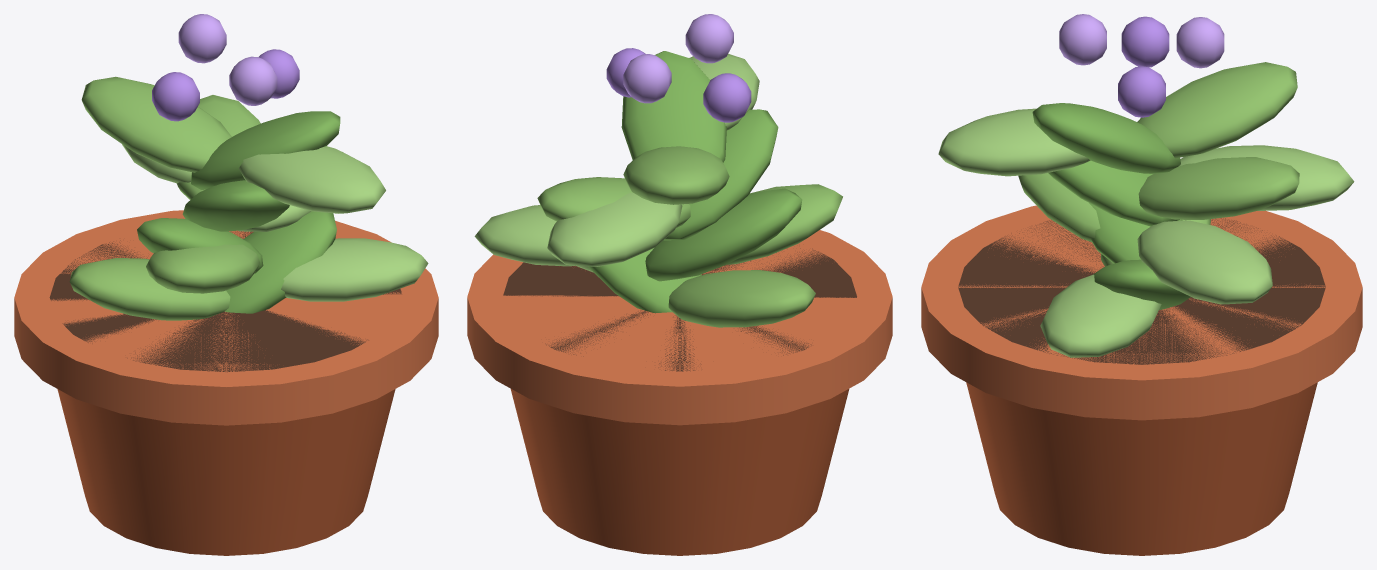
Rendered from catnip-pot.glb.
The picture shows the model from 3 angles, left to right: view 1: azimuth 30°, elevation 25°; view 2: azimuth 150°, elevation 25°; view 3: azimuth 270°, elevation 25°; orthographic projection. The views are drawn at different scales.
Size of the model in its own units: 0.6 by 0.715 by 0.6.
